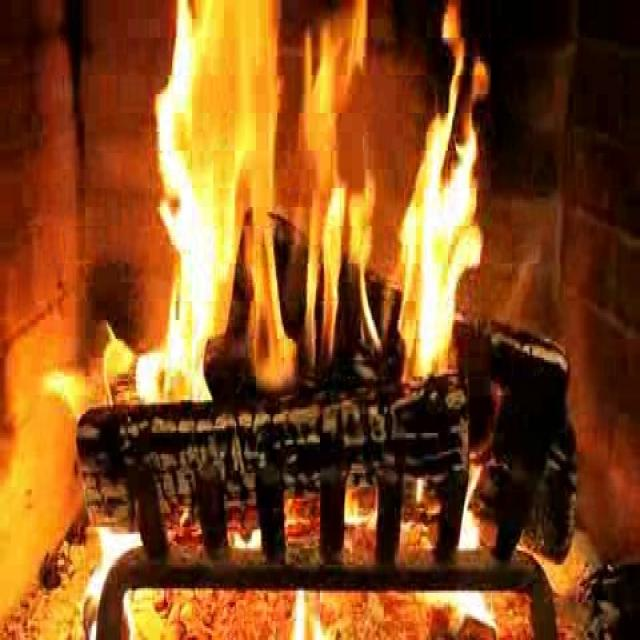fire: (136, 9, 494, 407)
